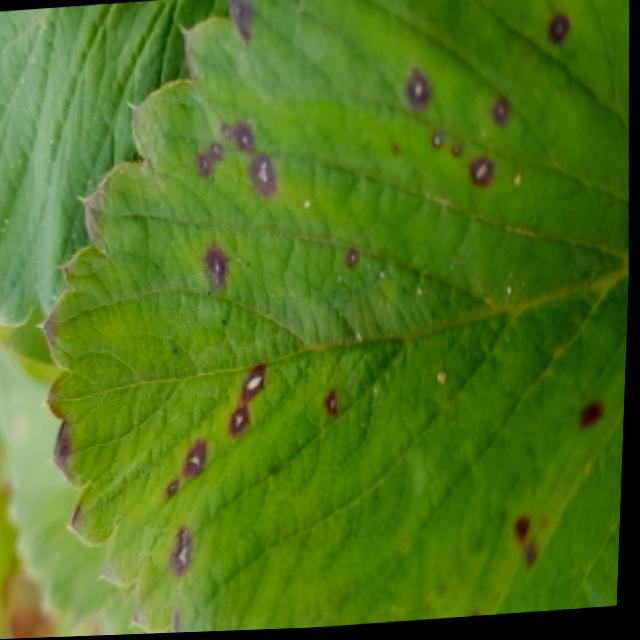Leaf Spot: (39, 0, 631, 635)
